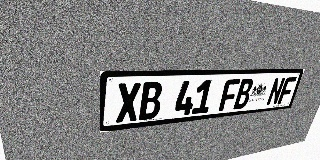1: (192, 80, 214, 114)
4: (174, 80, 197, 116)
B: (139, 82, 163, 120), (233, 78, 254, 110)
F: (218, 79, 240, 111), (277, 77, 297, 104)
N: (266, 77, 286, 106)
X: (116, 82, 141, 123)
